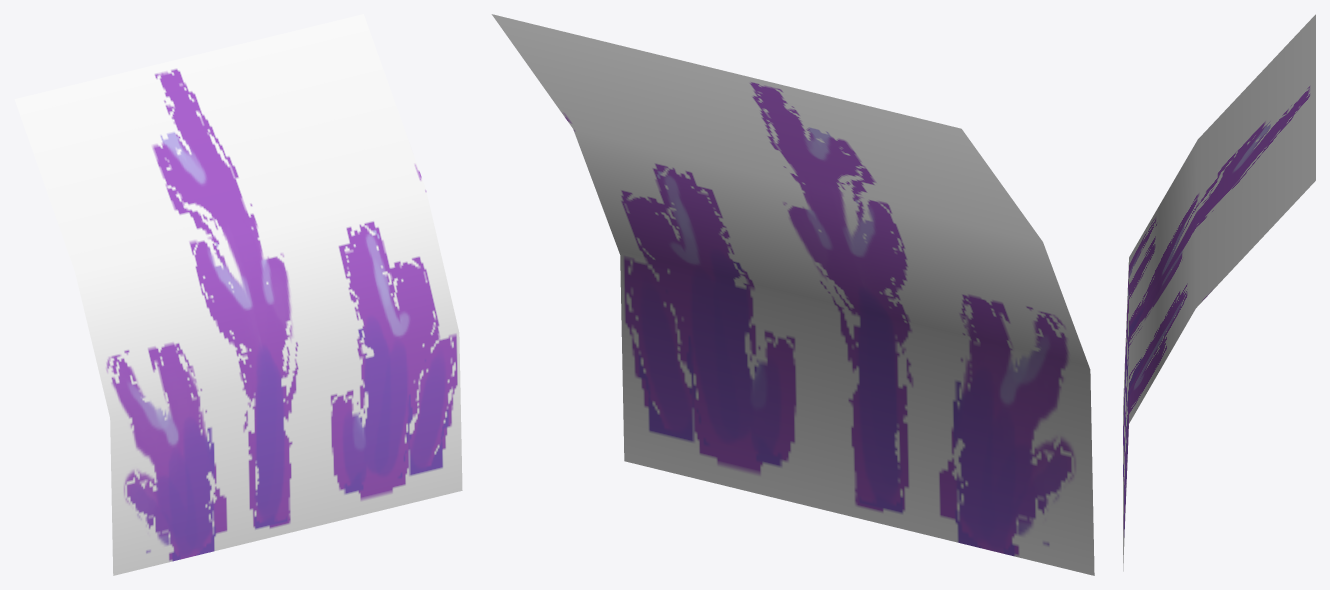
The model's file is purple plant 7.fbx.
3 renders of one model, left to right at view 1: azimuth 30°, elevation 25°; view 2: azimuth 150°, elevation 25°; view 3: azimuth 270°, elevation 25°, orthographic. The views are drawn at different scales.
Visible parts, largest first — view 1: pPlane4; view 2: pPlane4; view 3: pPlane4.
Part boxes in pixels (bbox=[...]): pPlane4: bbox=[14, 14, 462, 575]; pPlane4: bbox=[491, 14, 1094, 575]; pPlane4: bbox=[1123, 14, 1315, 571].
Size of the model in its own units: 7.56 by 8.35 by 3.69.
